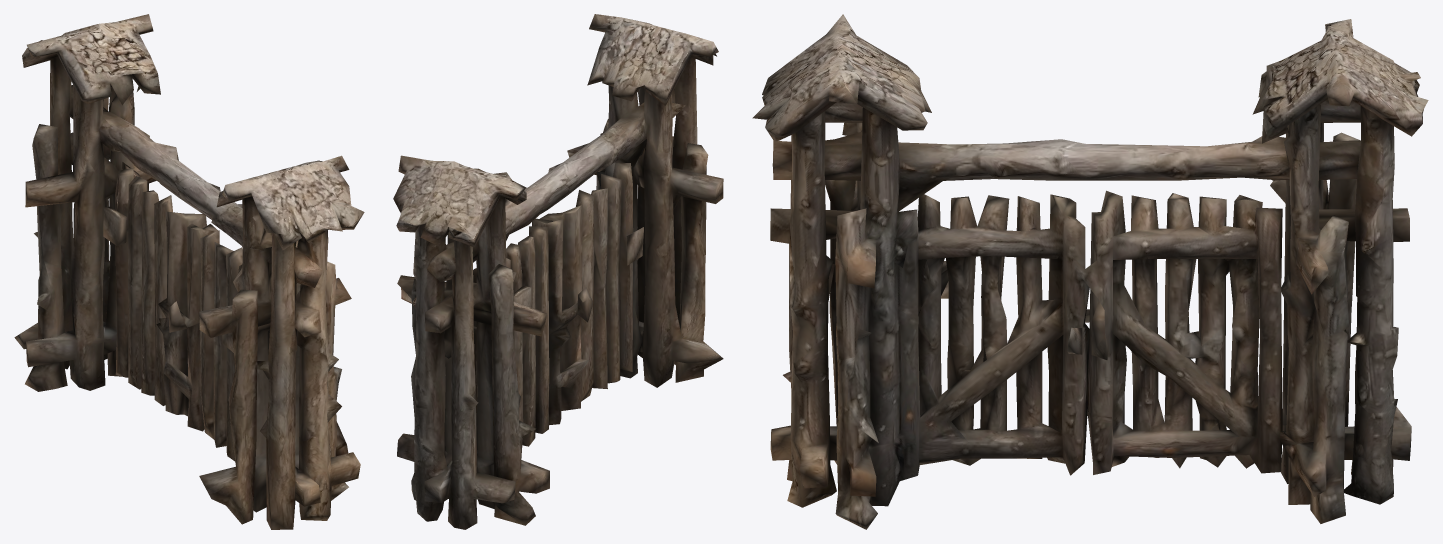
File: b_gate.glb
3 renders of one model, left to right at view 1: azimuth 30°, elevation 25°; view 2: azimuth 150°, elevation 25°; view 3: azimuth 270°, elevation 25°, orthographic. The views are drawn at different scales.
Parts seen in each view (by area): view 1: tripo_node_eac14324-be20-4677-86d3-ee0324e4f216; view 2: tripo_node_eac14324-be20-4677-86d3-ee0324e4f216; view 3: tripo_node_eac14324-be20-4677-86d3-ee0324e4f216.
Boxes of the visible parts, <box> form: tripo_node_eac14324-be20-4677-86d3-ee0324e4f216: <box>14,14,364,529</box>; tripo_node_eac14324-be20-4677-86d3-ee0324e4f216: <box>393,14,723,529</box>; tripo_node_eac14324-be20-4677-86d3-ee0324e4f216: <box>752,14,1428,529</box>.
Size of the model in its own units: 0.3241 by 0.7241 by 1.
Materials: 1 (1 with a texture image).
